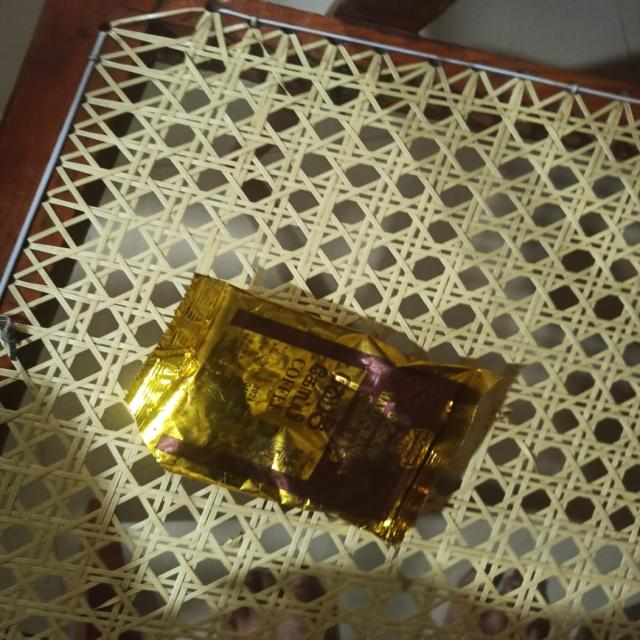Harischandra Coffee: (115, 290, 578, 551)
